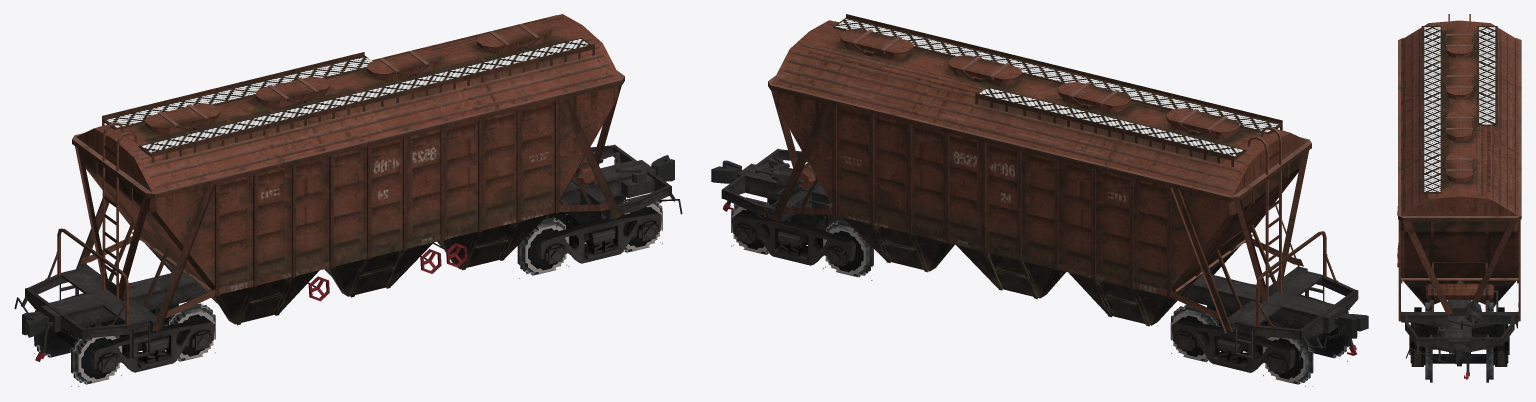
The model's file is mvp_ir_hopper.obj.
3 renders of one model, left to right at view 1: azimuth 30°, elevation 25°; view 2: azimuth 150°, elevation 25°; view 3: azimuth 270°, elevation 25°, orthographic. The views are drawn at different scales.
Parts seen in each view (by area): view 1: FRAME_hopper, BOGEY_REAR_hopper, BOGEY_FRONT_hopper, BOGEY_FRONT_WHEEL_1_hopper, BOGEY_REAR_WHEEL_1_hopper, BOGEY_FRONT_WHEEL_2_hopper, BOGEY_REAR_WHEEL_2_hopper; view 2: FRAME_hopper, BOGEY_REAR_hopper, BOGEY_FRONT_hopper, BOGEY_FRONT_WHEEL_1_hopper, BOGEY_REAR_WHEEL_1_hopper, BOGEY_FRONT_WHEEL_2_hopper, BOGEY_REAR_WHEEL_2_hopper; view 3: FRAME_hopper, BOGEY_REAR_hopper, BOGEY_REAR_WHEEL_2_hopper, BOGEY_REAR_WHEEL_1_hopper.
Part boxes in pixels (x1,y1,x2,y2): FRAME_hopper: (14,14,682,361); BOGEY_REAR_hopper: (535,209,661,264); BOGEY_FRONT_hopper: (35,283,214,373); BOGEY_FRONT_WHEEL_1_hopper: (34,308,122,386); BOGEY_REAR_WHEEL_1_hopper: (517,214,569,278); BOGEY_FRONT_WHEEL_2_hopper: (151,303,215,361); BOGEY_REAR_WHEEL_2_hopper: (606,194,662,252); FRAME_hopper: (711,14,1368,360); BOGEY_REAR_hopper: (732,212,855,266); BOGEY_FRONT_hopper: (1171,284,1348,373); BOGEY_FRONT_WHEEL_1_hopper: (1262,309,1349,386); BOGEY_REAR_WHEEL_1_hopper: (823,216,873,280); BOGEY_FRONT_WHEEL_2_hopper: (1170,304,1234,364); BOGEY_REAR_WHEEL_2_hopper: (731,197,786,254); FRAME_hopper: (1397,14,1521,379); BOGEY_REAR_hopper: (1409,307,1509,366); BOGEY_REAR_WHEEL_2_hopper: (1424,334,1494,382); BOGEY_REAR_WHEEL_1_hopper: (1424,300,1494,326).
Size of the model in its own units: 14.84 by 4.98 by 3.17.
